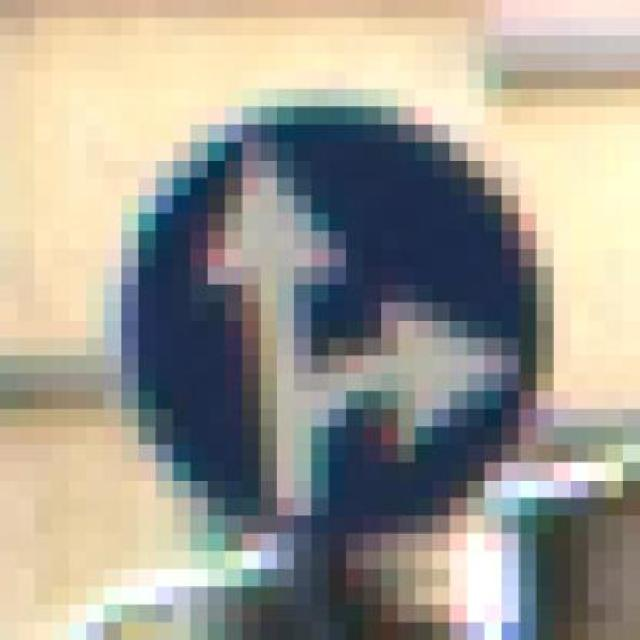Go Straight or Turn Right: (51, 71, 588, 569)
